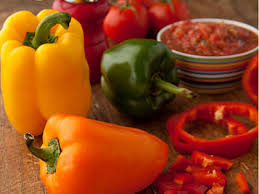bell pepper: (24, 109, 164, 194), (1, 10, 92, 111), (100, 30, 185, 115)
